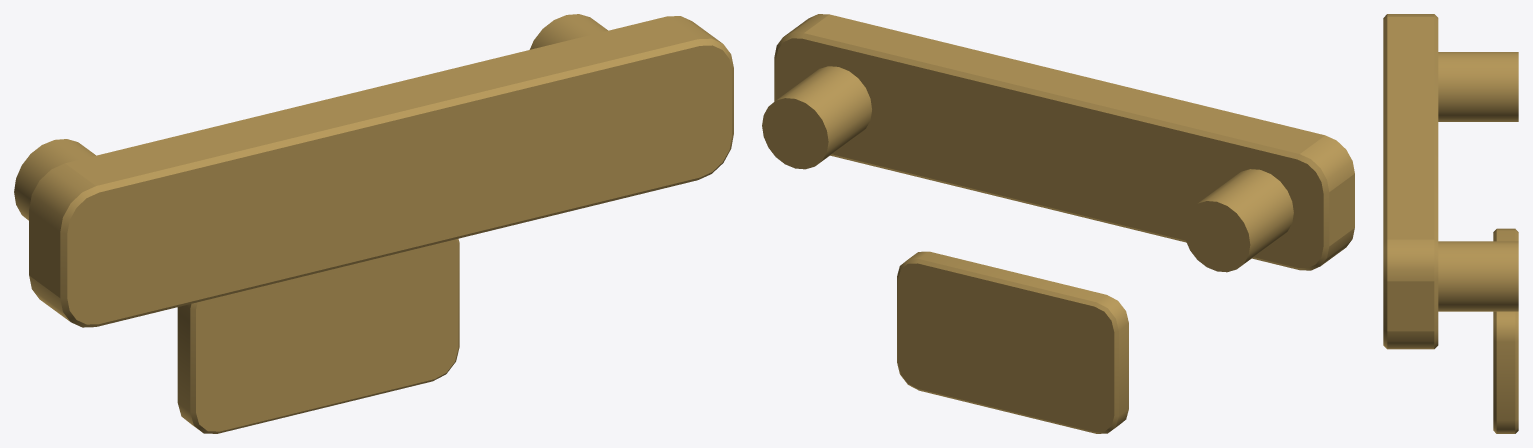
The picture shows the model from 3 angles, left to right: view 1: azimuth 30°, elevation 25°; view 2: azimuth 150°, elevation 25°; view 3: azimuth 270°, elevation 25°; orthographic projection. The views are drawn at different scales.
Visible parts, largest first — view 1: iron_knocker_bar, iron_knocker_strike, iron_knocker_lug_l, iron_knocker_lug_r; view 2: iron_knocker_bar, iron_knocker_strike, iron_knocker_lug_l, iron_knocker_lug_r; view 3: iron_knocker_bar, iron_knocker_lug_r, iron_knocker_lug_l, iron_knocker_strike.
Part boxes in pixels (left/top/right/bottom): iron_knocker_bar: left=29, top=16, right=733, bottom=327; iron_knocker_strike: left=177, top=238, right=459, bottom=433; iron_knocker_lug_l: left=14, top=139, right=95, bottom=220; iron_knocker_lug_r: left=529, top=14, right=607, bottom=49; iron_knocker_bar: left=774, top=14, right=1354, bottom=270; iron_knocker_strike: left=897, top=251, right=1128, bottom=433; iron_knocker_lug_l: left=1183, top=169, right=1293, bottom=272; iron_knocker_lug_r: left=762, top=66, right=871, bottom=169; iron_knocker_bar: left=1383, top=14, right=1438, bottom=349; iron_knocker_lug_r: left=1438, top=241, right=1518, bottom=311; iron_knocker_lug_l: left=1438, top=52, right=1518, bottom=121; iron_knocker_strike: left=1493, top=228, right=1518, bottom=433.
Bounding box in the file's own units: 0.15 × 0.074 × 0.0344.
